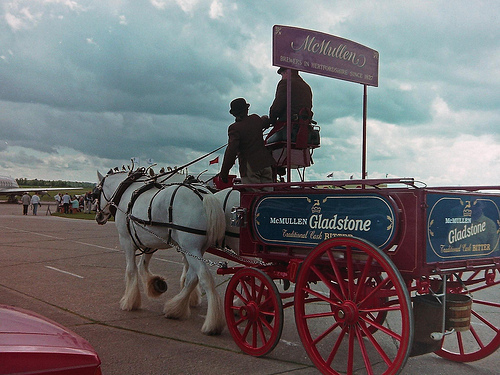horse: (94, 163, 229, 334), (147, 163, 241, 309)
